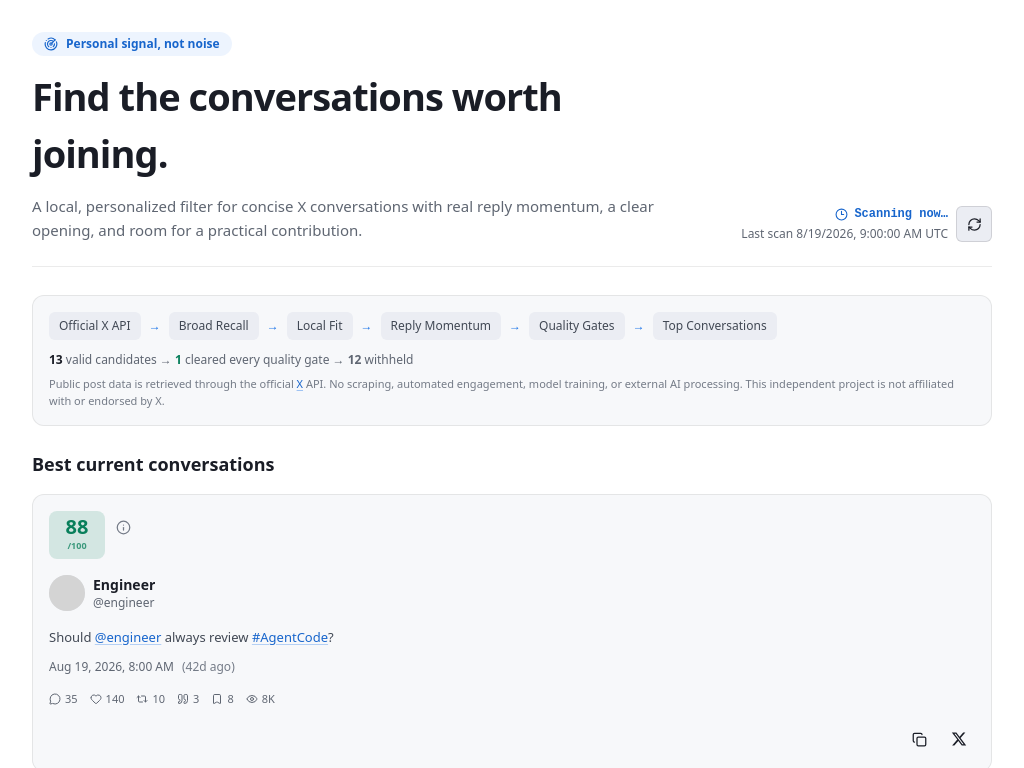
Scenario: RadarExperience › renders only qualifying posts with X-compliant attribution and full text
expect the heading "Best current conversations" is shown: met, box [32,452,274,476]
expect the link titled "Open @engineer's X profile" is shown: met, box [49,574,155,610]
Click the button named "Explain score 88 for Engineer".
click(123, 527)  # box [111,515,135,539]
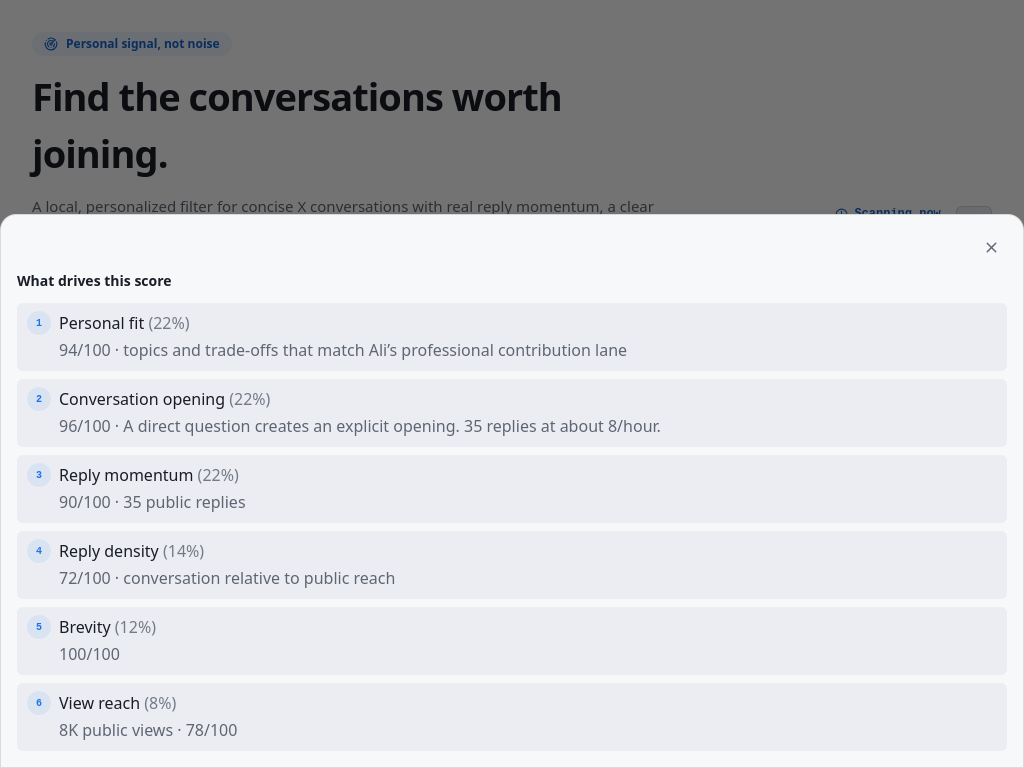
expect the text "Personal fit" is shown: met, box [59,312,144,334]
expect the text "Conversation opening" is shown: met, box [59,388,225,410]
expect the text "Reply momentum" is shown: met, box [59,464,193,486]
